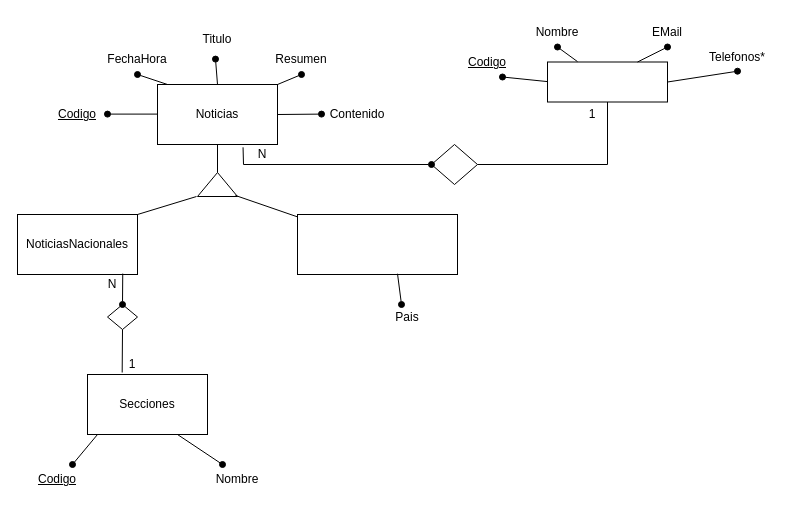
This 785x512 diagram has some shape labels left out. The centre of each missing label's shape, as x and y in pixels:
NoticiasInternacionales: (x=377, y=244)
Periodistas: (x=607, y=81)
